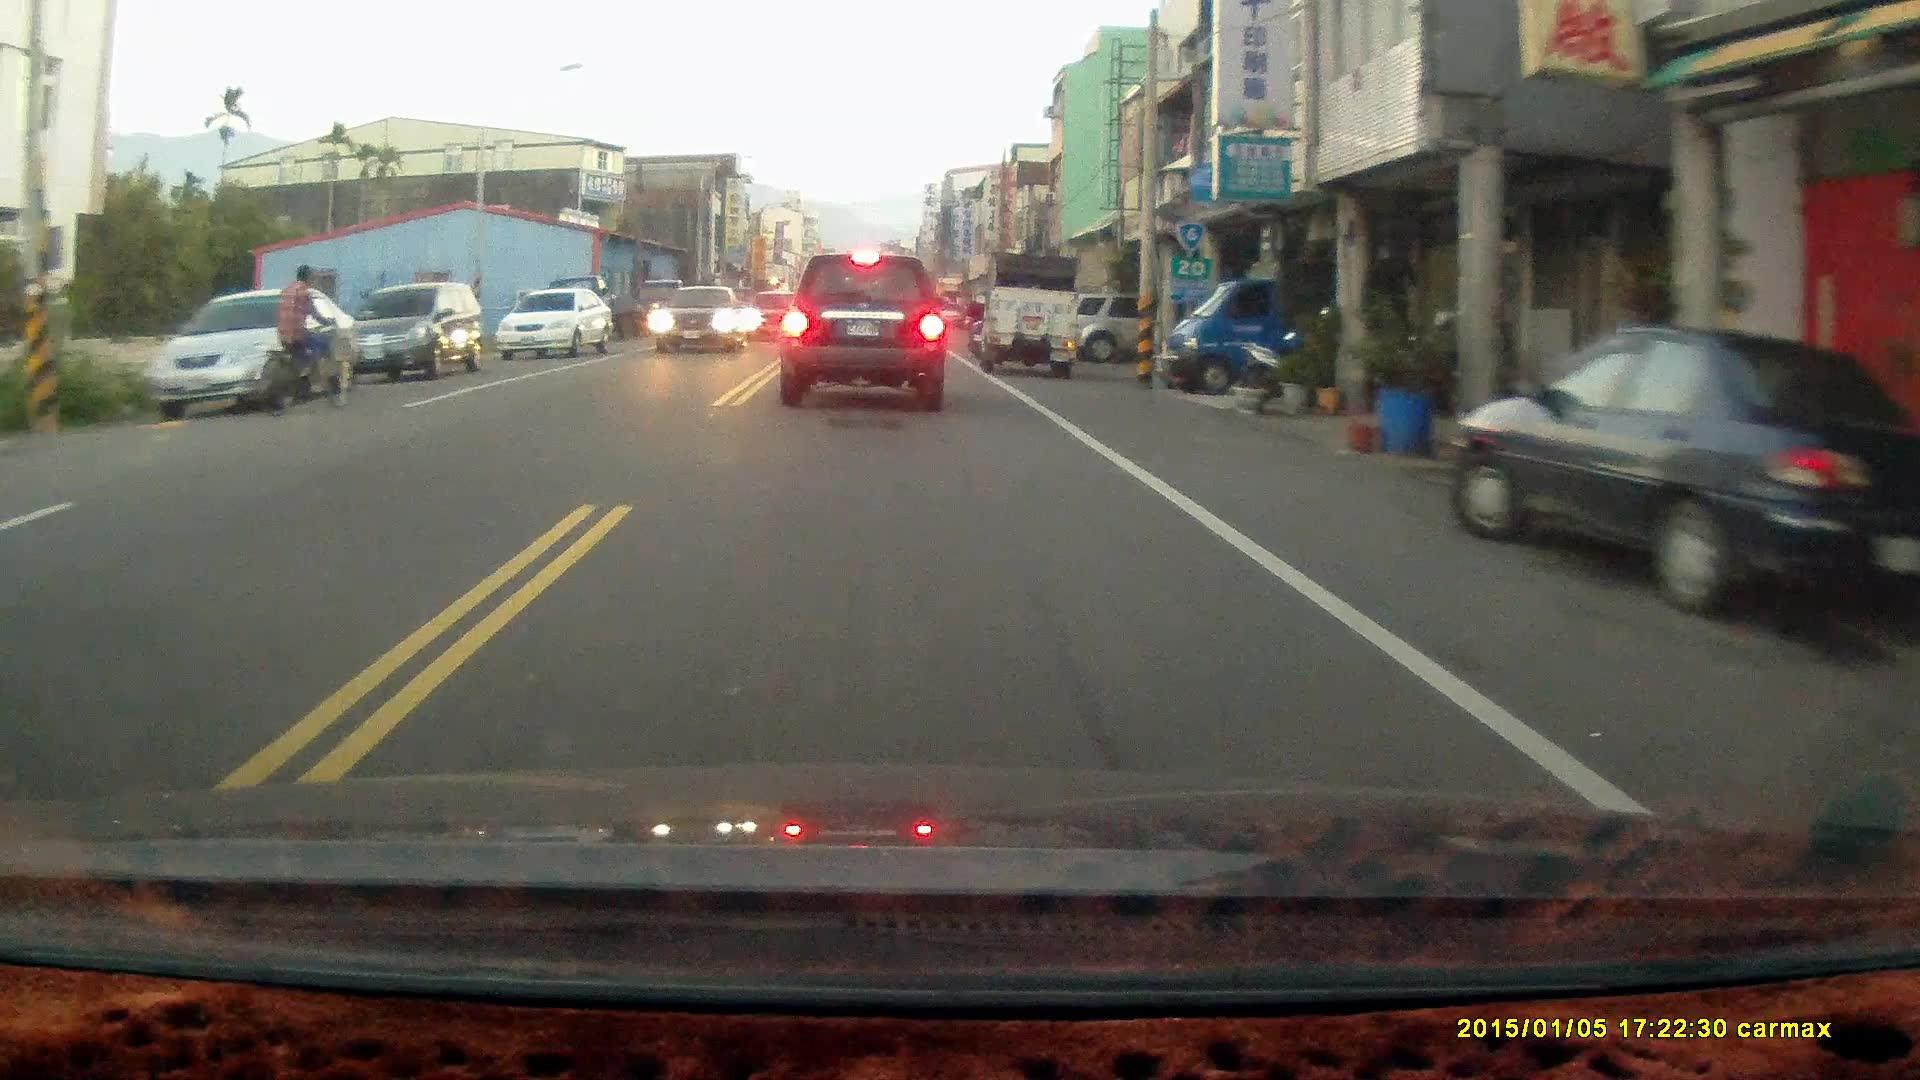rider: (251, 258, 353, 416), (962, 292, 988, 355)
vehicle: (1452, 324, 1907, 622), (145, 292, 357, 423), (780, 250, 949, 409), (1160, 246, 1334, 397), (337, 281, 492, 386), (981, 255, 1082, 378), (497, 288, 618, 363), (660, 285, 748, 354), (628, 279, 701, 343)
